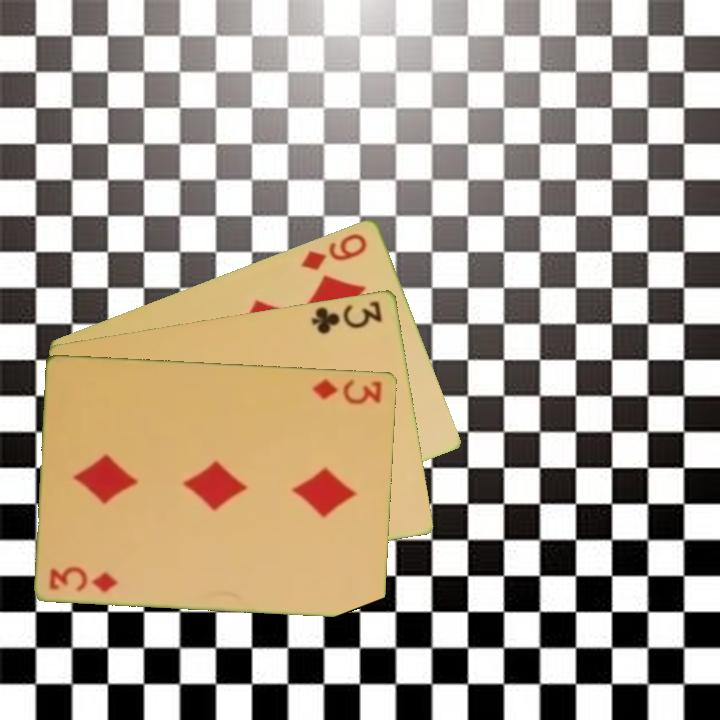3c: (308, 297, 385, 337)
3d: (309, 375, 385, 407), (46, 564, 121, 595)
9d: (297, 229, 370, 273)
